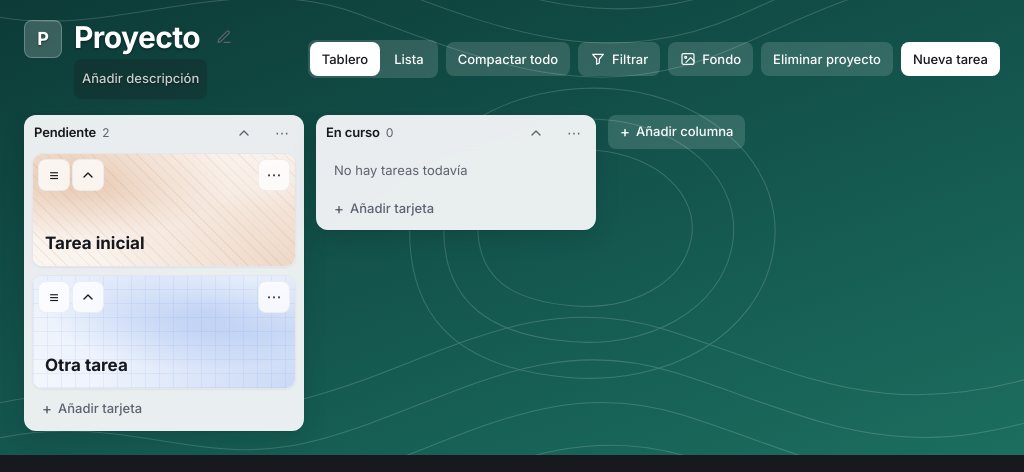
Test: ProyectoDetalle › contrae una sola tarjeta y deja abiertas las demás
Click the button named "contraer tarjeta tarea inicial": (88, 174) x1=72 y1=158 x2=104 y2=190
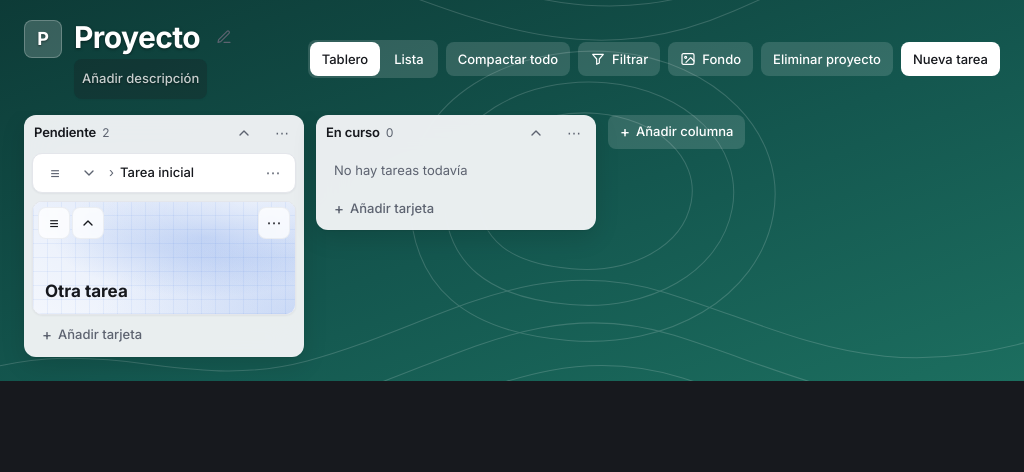
expect the element with class "tarjeta-kanban__portada" is shown: met, box x1=33 y1=202 x2=295 y2=314
expect the button named "expandir tarjeta tarea inicial" is collapsed: met, box x1=73 y1=156 x2=105 y2=188
